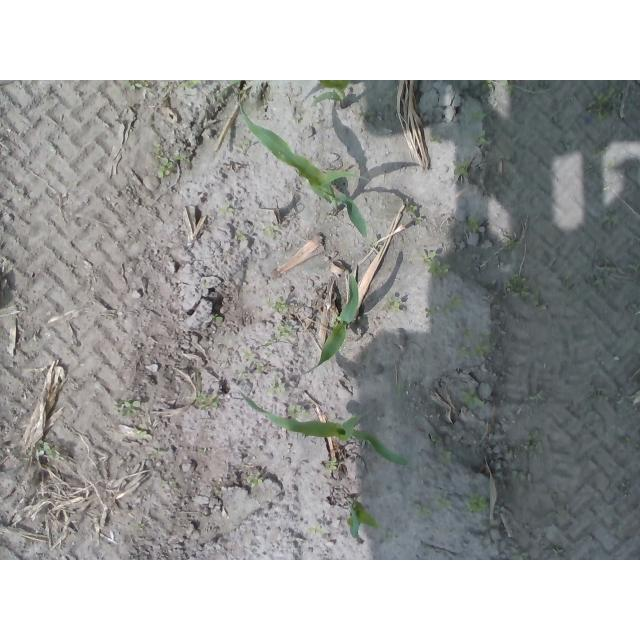Maize: (232, 82, 369, 242), (236, 390, 409, 466), (303, 271, 362, 374), (297, 80, 363, 109), (346, 494, 382, 543)
Weeds: (504, 273, 551, 315), (502, 429, 545, 460), (455, 326, 494, 358), (592, 82, 621, 123), (154, 142, 187, 178), (427, 434, 457, 463), (420, 248, 448, 277), (477, 80, 515, 96), (592, 144, 617, 168), (111, 400, 142, 419), (402, 199, 423, 226), (443, 291, 465, 314), (37, 438, 62, 458), (459, 387, 484, 405), (465, 493, 488, 512), (286, 404, 311, 420), (195, 394, 218, 410), (359, 110, 377, 130), (472, 133, 492, 149), (385, 297, 402, 315), (270, 299, 290, 314), (508, 467, 528, 482), (453, 159, 468, 178), (464, 217, 479, 236), (216, 203, 234, 218), (509, 548, 531, 560), (264, 224, 280, 240), (469, 110, 488, 123), (181, 80, 208, 89), (275, 326, 295, 338), (414, 505, 438, 515), (306, 525, 326, 536), (527, 391, 546, 402), (434, 496, 450, 509), (126, 80, 144, 90), (270, 383, 286, 394), (247, 475, 263, 486), (234, 230, 248, 242), (207, 313, 225, 322), (328, 460, 340, 472), (430, 134, 442, 146), (135, 430, 146, 439), (135, 522, 145, 530), (237, 139, 244, 146)
